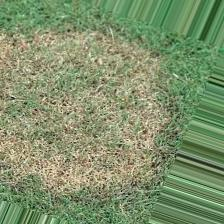patch: (9, 134, 63, 176), (68, 126, 106, 159), (70, 159, 101, 187), (46, 35, 91, 53), (137, 97, 163, 125), (51, 90, 80, 115), (94, 98, 113, 119), (104, 166, 125, 182), (123, 137, 143, 151), (116, 155, 138, 162)
